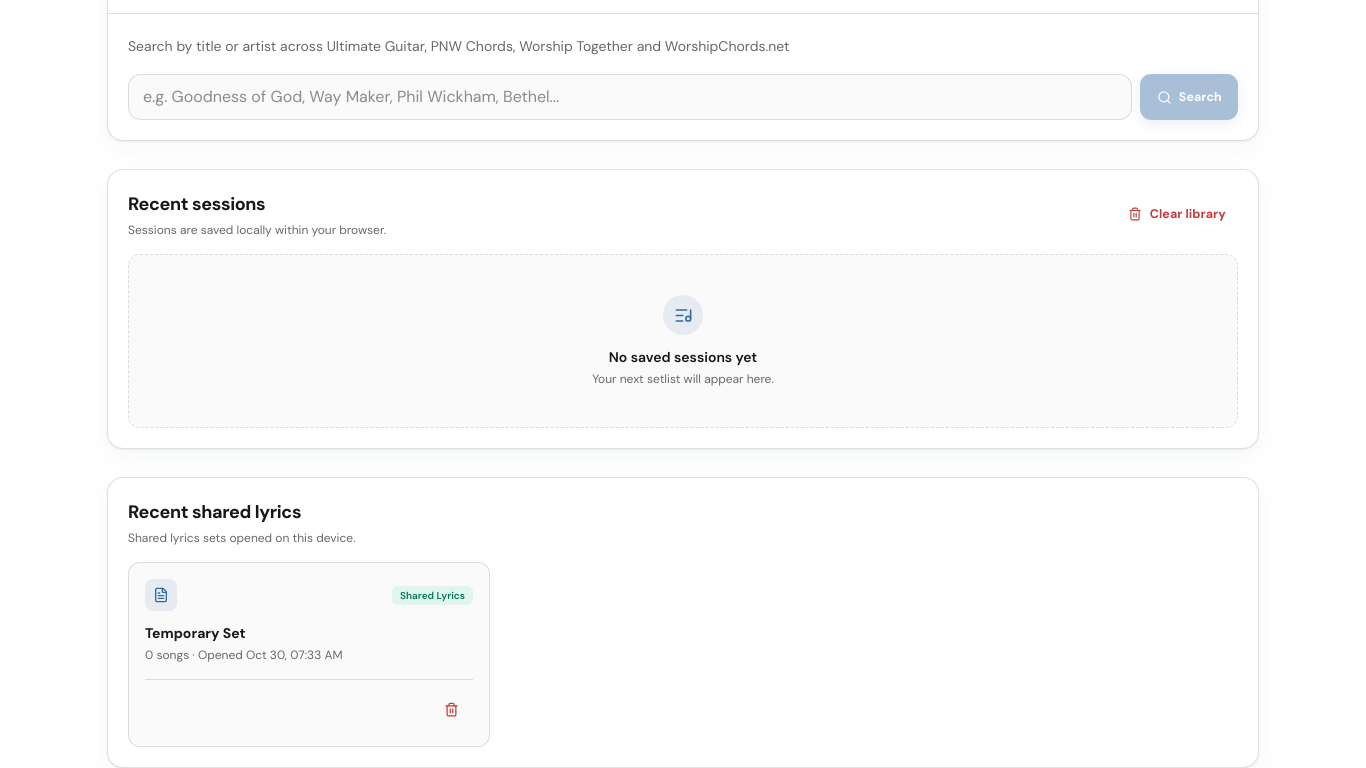
Scenario: HomePage recent shared lyrics › removes a shared lyrics set from recent list on trash click
The width and height of the screenshot is (1366, 768).
(page scrolled)
Expected: the heading "Temporary Set" is shown, [145,624,246,642]
Click the button named "Remove from recent lyrics": click(452, 709) [431,688,473,730]
(page scrolled)
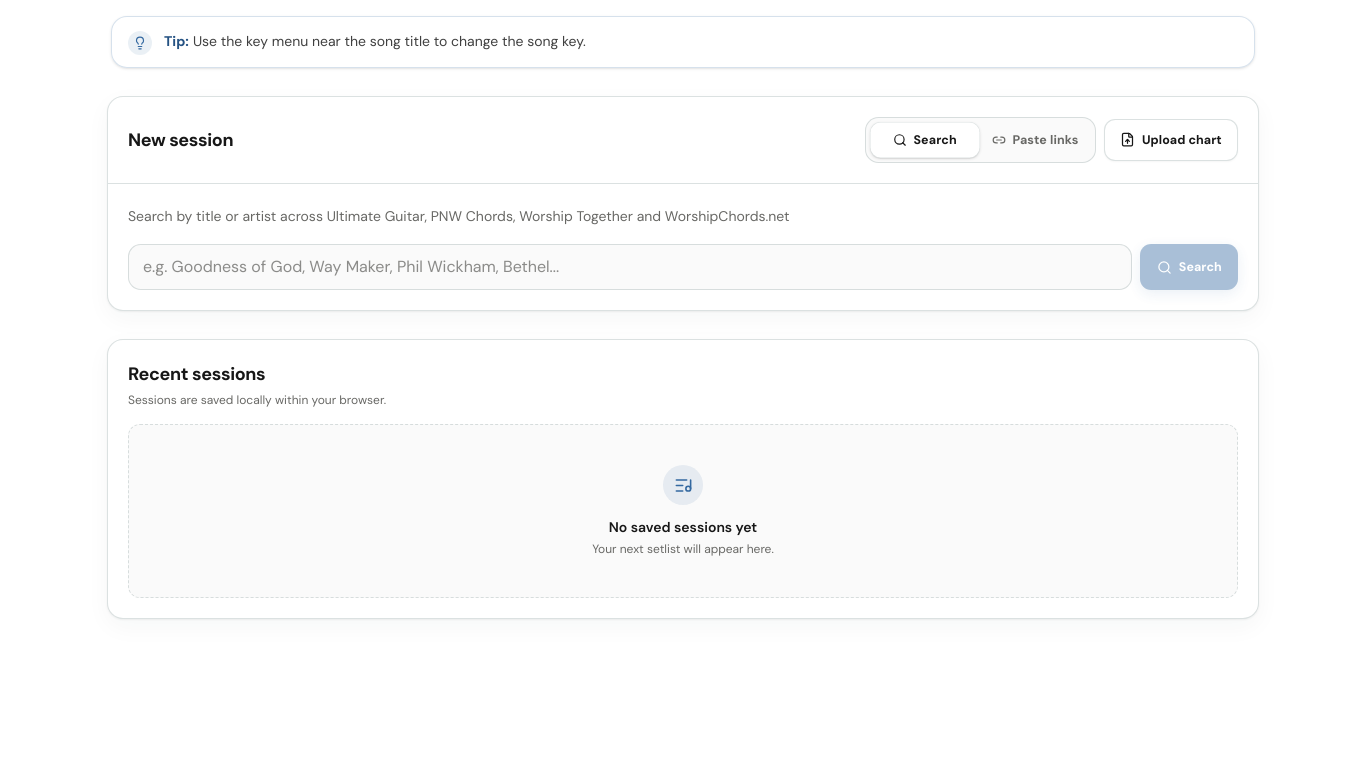
Now the link "Temporary Set" is gone
Now the heading "Recent shared lyrics" is gone
